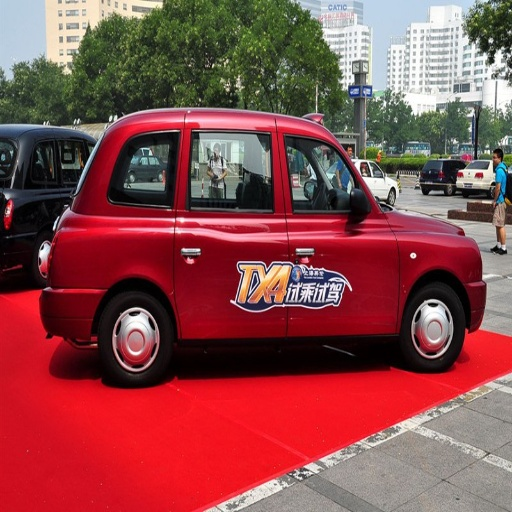trunk: (48, 209, 179, 339)
